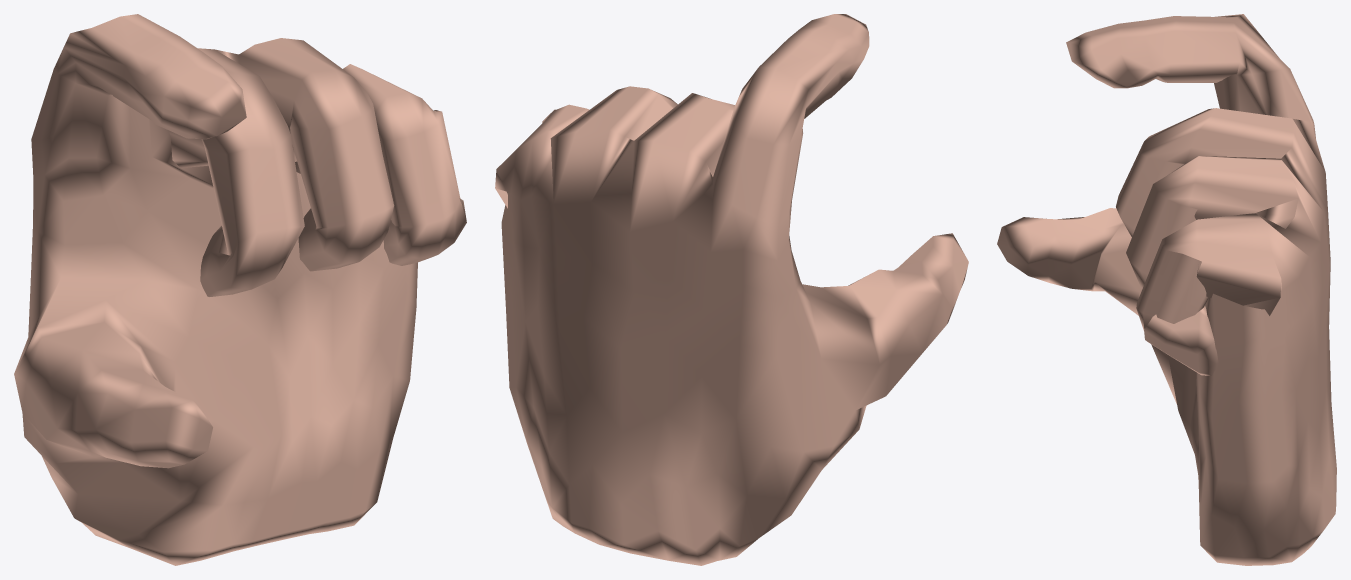
Rendered from MAO_L_COM_C.obj.
3 views of the same model, side by side, from view 1: azimuth 30°, elevation 25°; view 2: azimuth 150°, elevation 25°; view 3: azimuth 270°, elevation 25° (orthographic). The views are drawn at different scales.
Parts seen in each view (by area): view 1: mao_dir polySurface1; view 2: mao_dir polySurface1; view 3: mao_dir polySurface1.
Part boxes in pixels (x1,y1,x2,y2): mao_dir polySurface1: (14, 14, 466, 565); mao_dir polySurface1: (495, 14, 968, 565); mao_dir polySurface1: (997, 14, 1336, 565).
Size of the model in its own units: 138 by 175 by 118.
